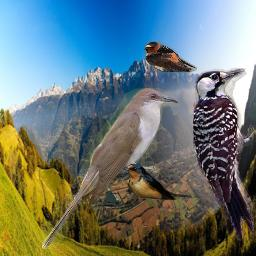Cuckoo: (42, 88, 180, 249)
Swallow: (123, 164, 195, 200), (144, 41, 197, 73)
Woodpecker: (193, 68, 254, 241)
